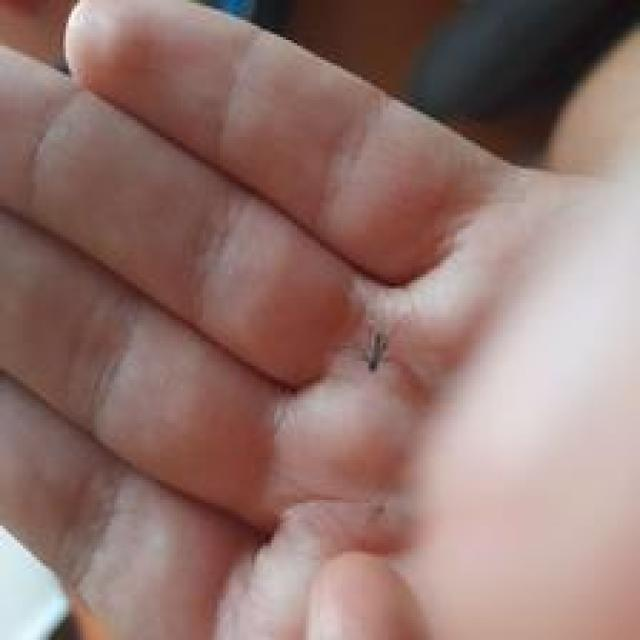Aedes albopictus: (359, 321, 390, 373)
